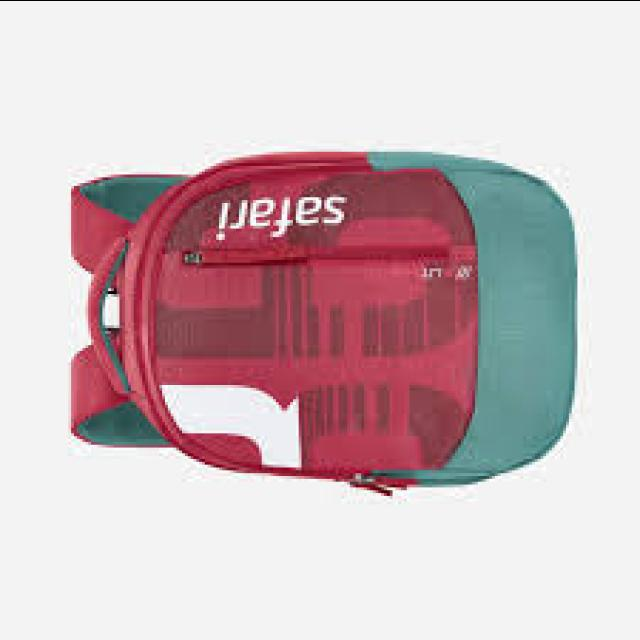backpack: (67, 152, 576, 499)
